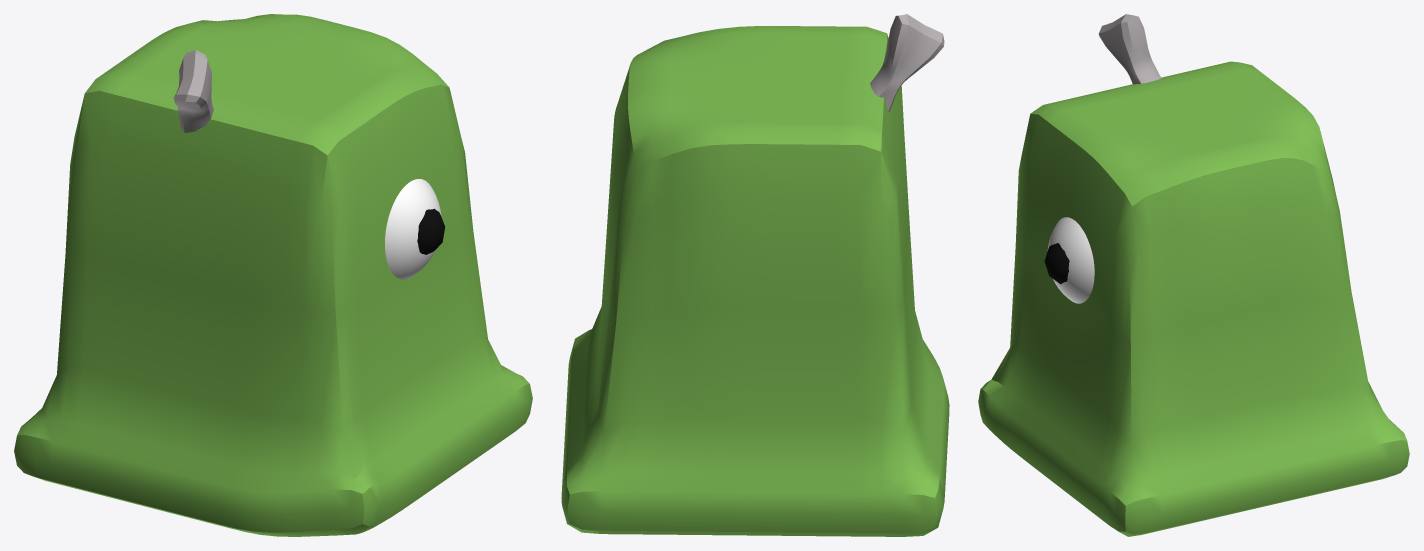
File: slime2.fbx
3 renders of one model, left to right at view 1: azimuth 30°, elevation 25°; view 2: azimuth 150°, elevation 25°; view 3: azimuth 270°, elevation 25°, orthographic. The views are drawn at different scales.
Parts seen in each view (by area): view 1: Icosphere; view 2: Icosphere; view 3: Icosphere.
Boxes of the visible parts, box(x1,y1,x2,y2) form: Icosphere: box(14, 14, 532, 536); Icosphere: box(561, 14, 949, 536); Icosphere: box(978, 14, 1409, 536).
Size of the model in its own units: 345 by 340 by 340.
